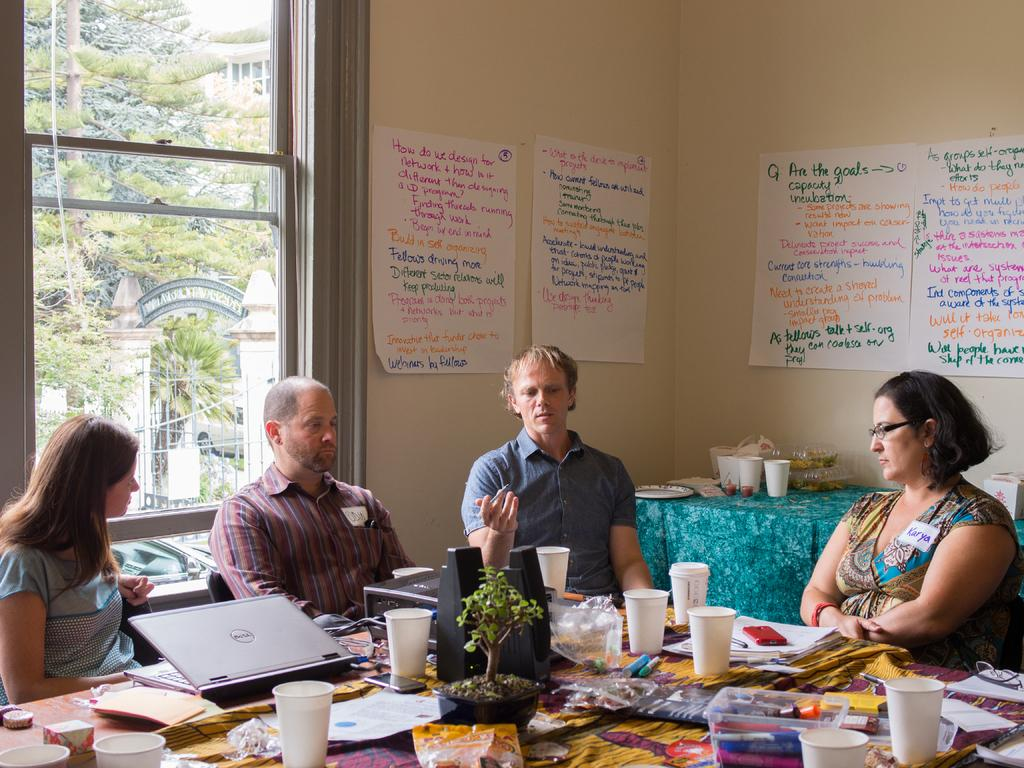Laptop: (111, 595, 359, 708)
